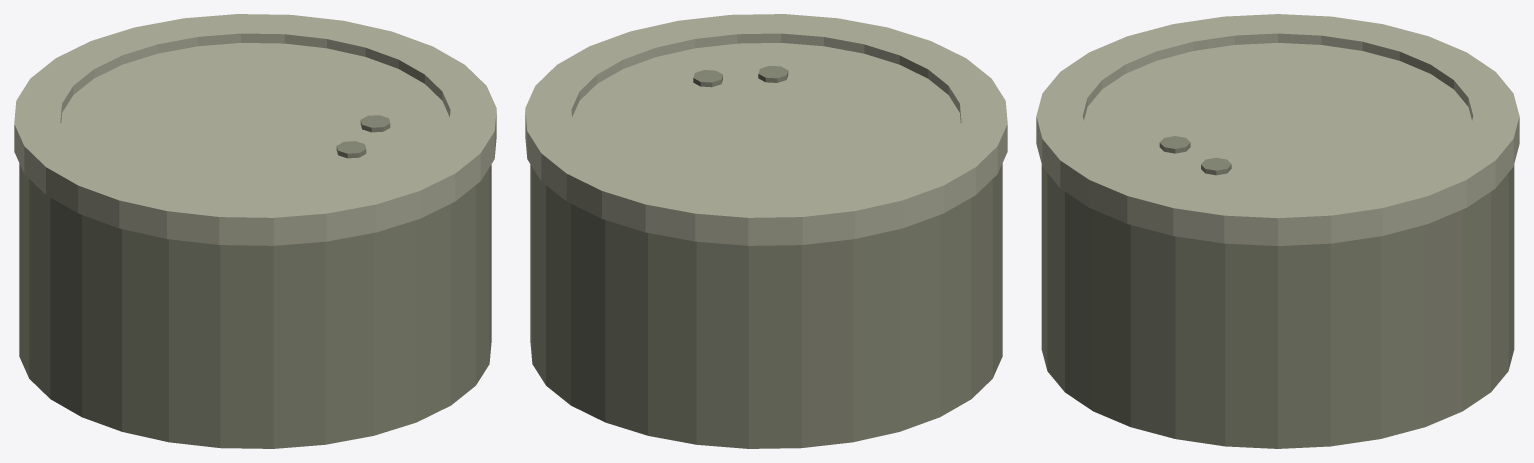
The model's file is vge_mech_crate_a.obj.
3 renders of one model, left to right at view 1: azimuth 30°, elevation 25°; view 2: azimuth 150°, elevation 25°; view 3: azimuth 270°, elevation 25°, orthographic.
Parts seen in each view (by area): view 1: vge_mech_crate_a_0, vge_mech_crate_a_2, vge_mech_crate_a_1; view 2: vge_mech_crate_a_0, vge_mech_crate_a_2, vge_mech_crate_a_1; view 3: vge_mech_crate_a_0, vge_mech_crate_a_2, vge_mech_crate_a_1.
Part boxes in pixels (left/top/right/bottom): vge_mech_crate_a_0: left=19, top=163, right=491, bottom=448; vge_mech_crate_a_2: left=61, top=43, right=449, bottom=198; vge_mech_crate_a_1: left=14, top=14, right=496, bottom=245; vge_mech_crate_a_0: left=530, top=163, right=1002, bottom=448; vge_mech_crate_a_2: left=572, top=43, right=960, bottom=198; vge_mech_crate_a_1: left=525, top=14, right=1007, bottom=245; vge_mech_crate_a_0: left=1041, top=164, right=1514, bottom=448; vge_mech_crate_a_2: left=1084, top=43, right=1471, bottom=198; vge_mech_crate_a_1: left=1036, top=14, right=1519, bottom=245.
Bounding box in the file's own units: 0.94 × 0.5 × 0.94.
